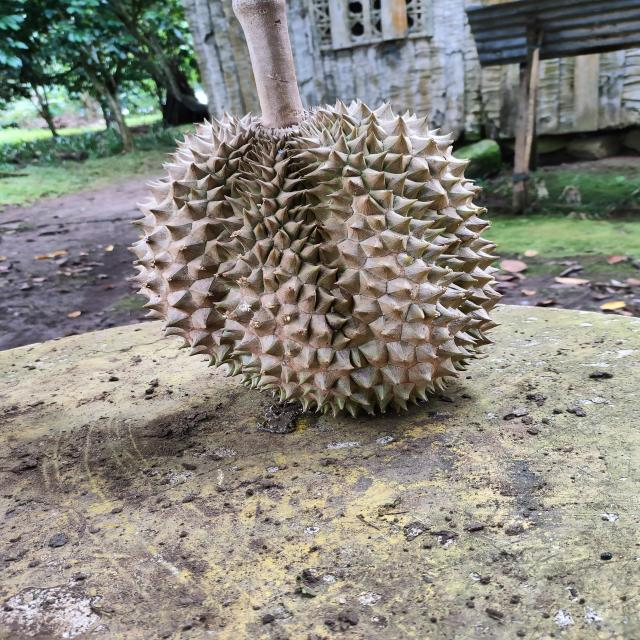mature: (132, 101, 500, 415)
